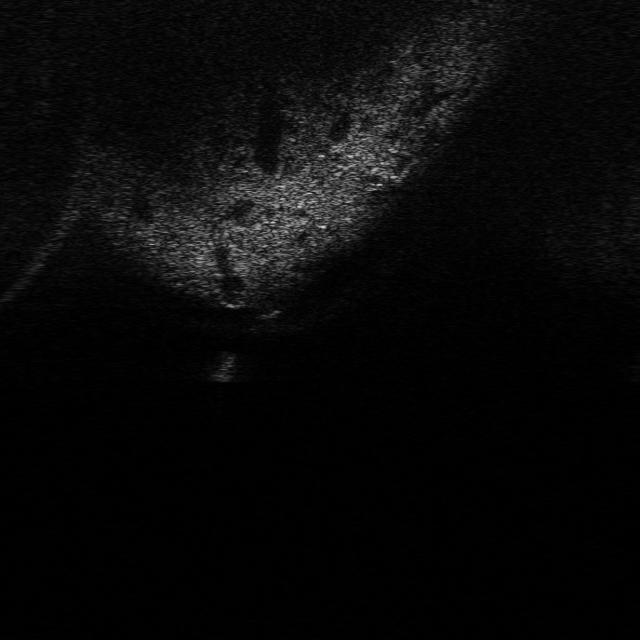cylinder: (206, 350, 240, 385)
